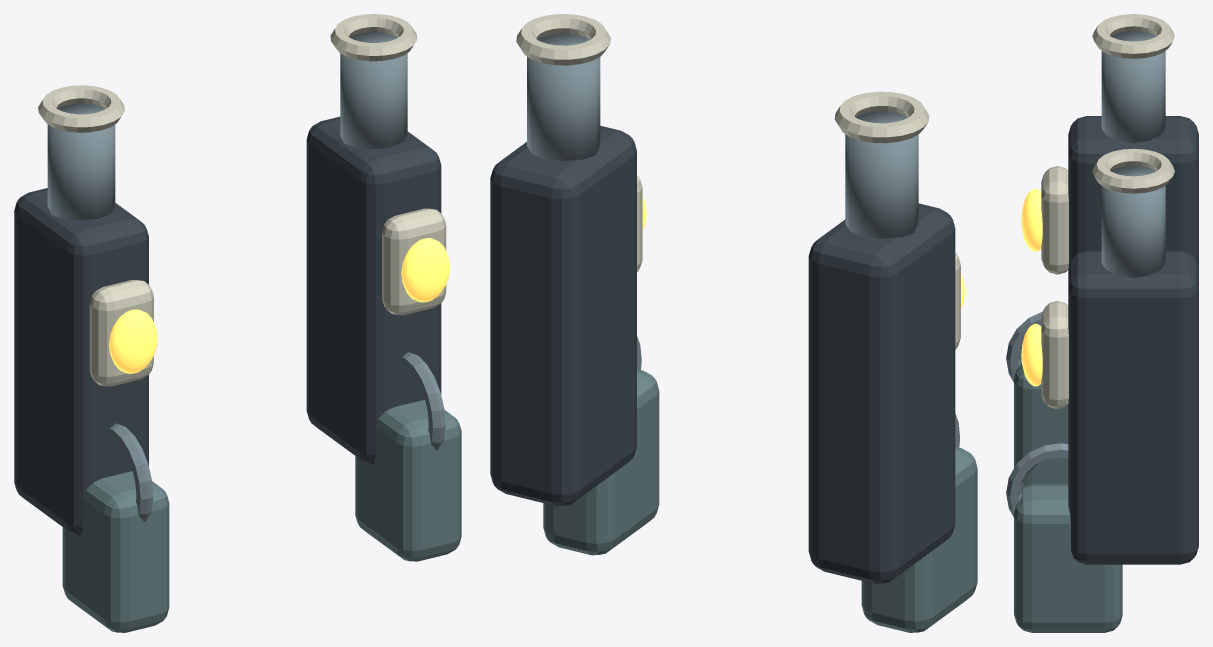
The model's file is YK_03_Soryeong_Weapon_E00.glb.
3 views of the same model, side by side, from view 1: azimuth 30°, elevation 25°; view 2: azimuth 150°, elevation 25°; view 3: azimuth 270°, elevation 25° (orthographic). The views are drawn at different scales.
Visible parts, largest first — view 1: SM_YK_03_Soryeong_Weapon_P00_R, SM_YK_03_Soryeong_Weapon_P00_L; view 2: SM_YK_03_Soryeong_Weapon_P00_L, SM_YK_03_Soryeong_Weapon_P00_R; view 3: SM_YK_03_Soryeong_Weapon_P00_R, SM_YK_03_Soryeong_Weapon_P00_L.
Boxes of the visible parts, x1,y1,x2,y2 form: SM_YK_03_Soryeong_Weapon_P00_R: (306, 14, 461, 561); SM_YK_03_Soryeong_Weapon_P00_L: (14, 85, 169, 632); SM_YK_03_Soryeong_Weapon_P00_L: (808, 91, 977, 632); SM_YK_03_Soryeong_Weapon_P00_R: (490, 14, 659, 555); SM_YK_03_Soryeong_Weapon_P00_R: (1006, 148, 1198, 632); SM_YK_03_Soryeong_Weapon_P00_L: (1006, 14, 1198, 486).
Bounding box in the file's own units: 0.56 × 0.7004 × 0.266.
